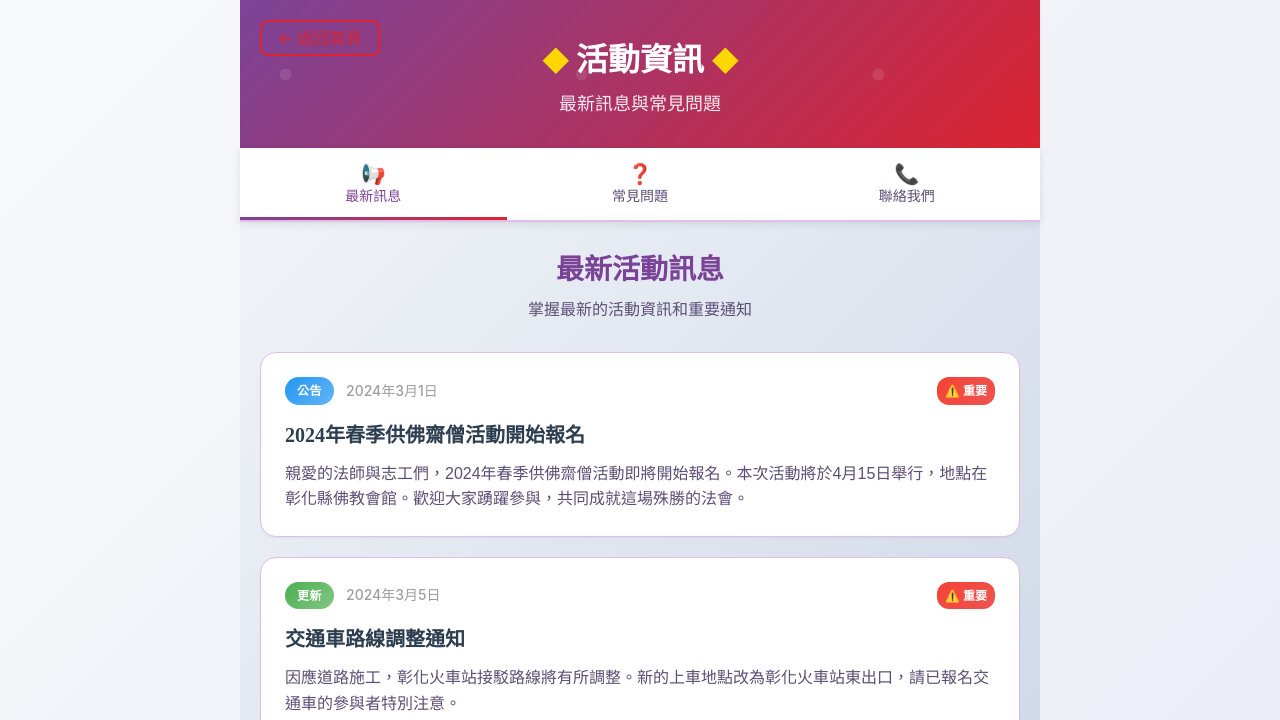
InfoPage › 聯絡資訊功能 › 應該顯示聯絡資訊內容
The image size is (1280, 720).
Click the tab "📞 聯絡我們" at (907, 184), box top-left (773, 148), bottom-right (1040, 220)
(page scrolled)
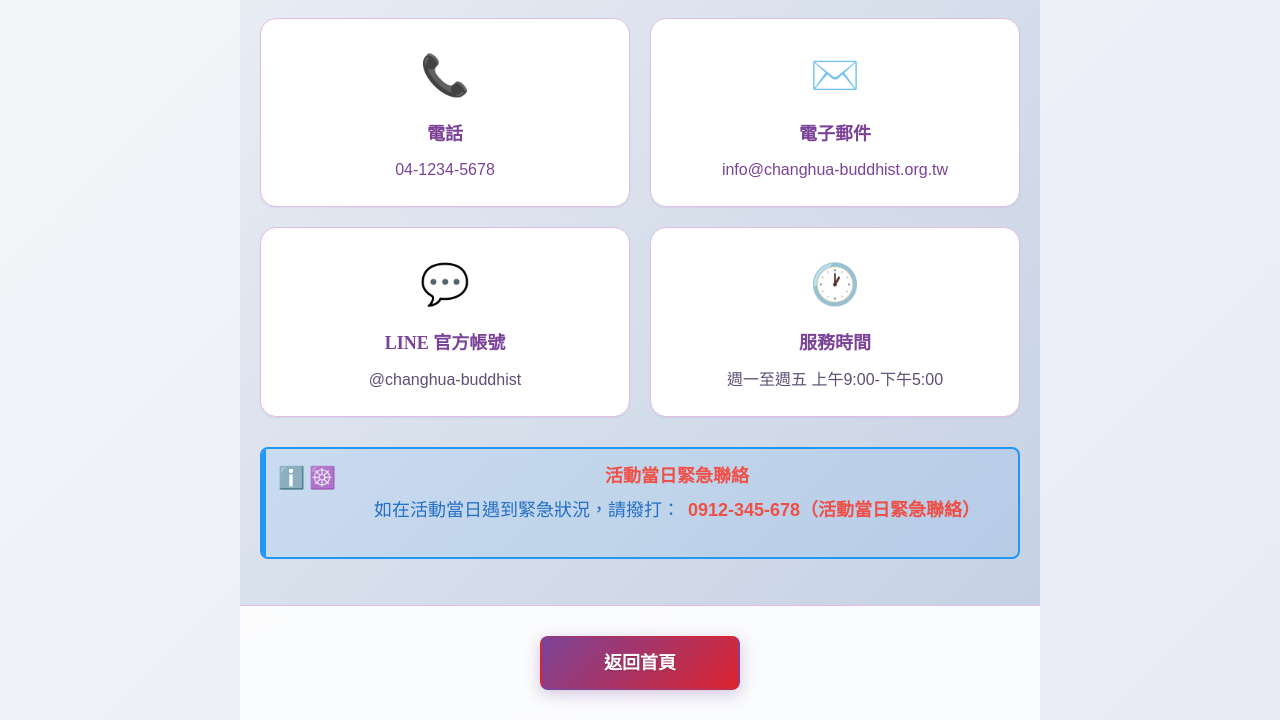
Expected: the link "04-1234-5678" is shown, top-left (395, 161), bottom-right (495, 178)
Expected: the link "info@changhua-buddhist.org.tw" is shown, top-left (722, 161), bottom-right (948, 178)
Expected: the text "@changhua-buddhist" is shown, top-left (369, 370), bottom-right (521, 388)
